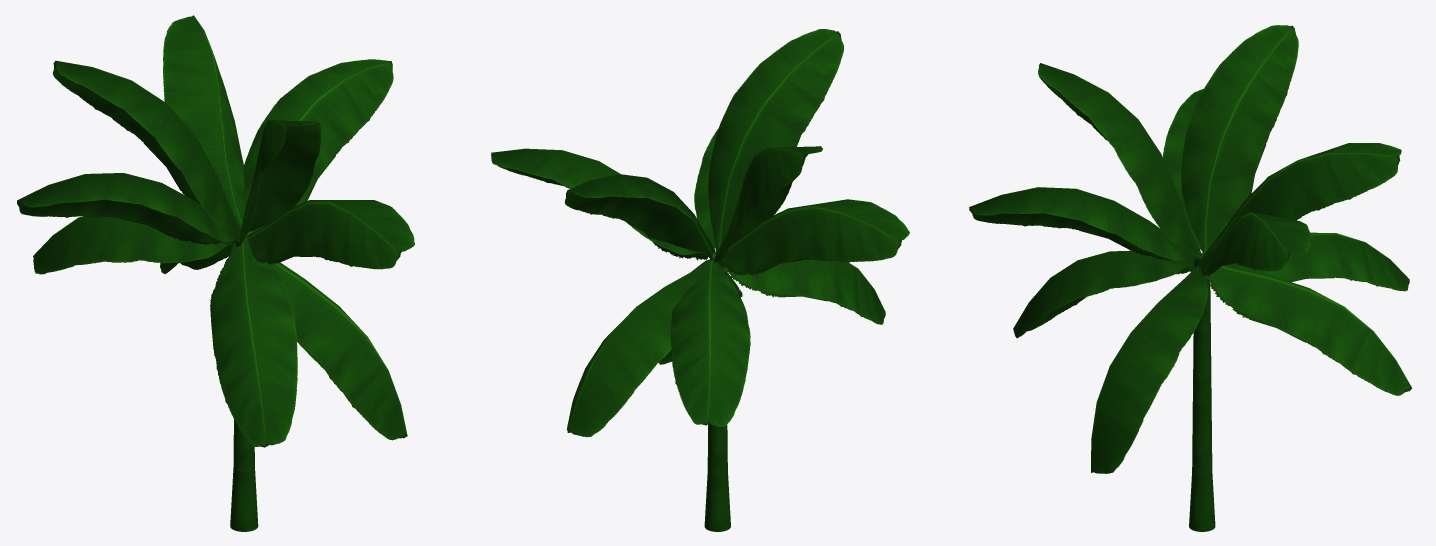
The model's file is SM_Plant_05.glb.
3 views of the same model, side by side, from view 1: azimuth 30°, elevation 25°; view 2: azimuth 150°, elevation 25°; view 3: azimuth 270°, elevation 25° (orthographic). The views are drawn at different scales.
Visible parts, largest first — view 1: SM_Plant_05; view 2: SM_Plant_05; view 3: SM_Plant_05.
Part boxes in pixels (<box>): SM_Plant_05: <box>17,15,414,531</box>; SM_Plant_05: <box>491,29,909,531</box>; SM_Plant_05: <box>969,25,1412,531</box>.
Size of the model in its own units: 7.37 by 7.88 by 7.31.
1 material, 1 textured.
